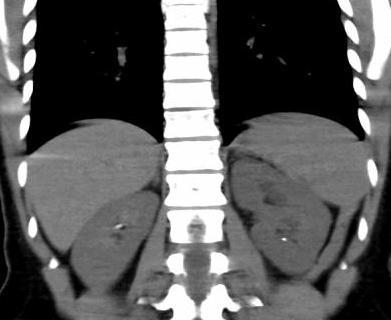Tas_Var: (112, 222, 124, 232), (280, 234, 290, 243)
